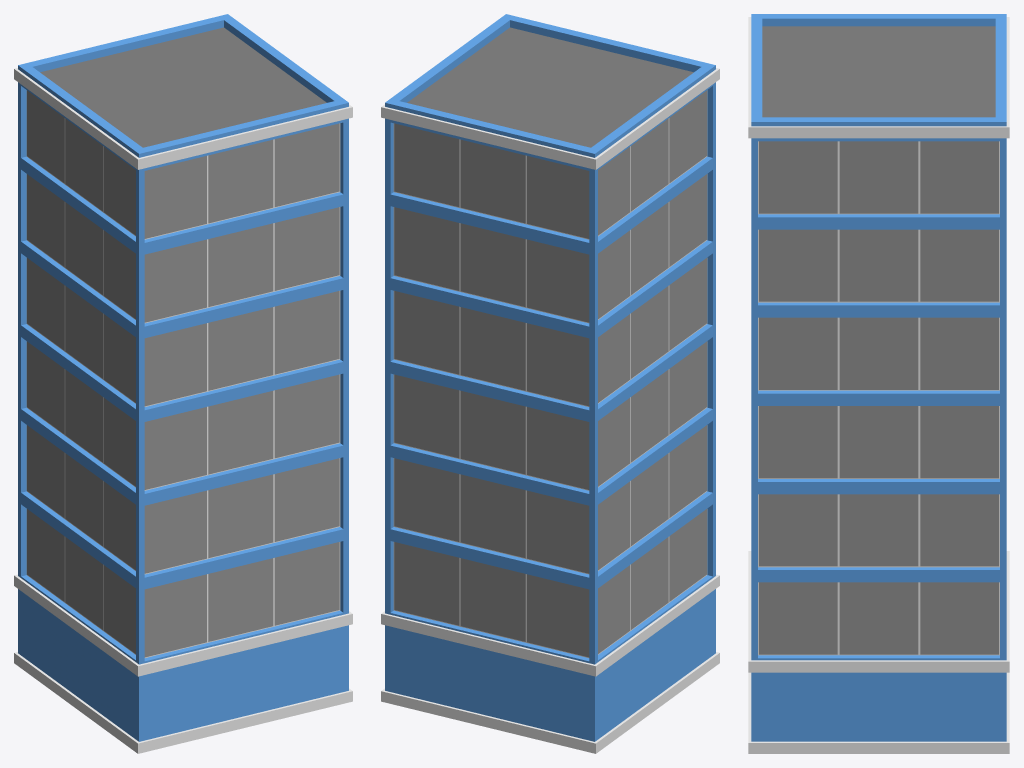
The model's file is SM_House_16_03.FBX.
The picture shows the model from 3 angles, left to right: view 1: azimuth 30°, elevation 25°; view 2: azimuth 150°, elevation 25°; view 3: azimuth 270°, elevation 25°; orthographic projection. The views are drawn at different scales.
Visible parts, largest first — view 1: SM_House_16_03; view 2: SM_House_16_03; view 3: SM_House_16_03.
Part boxes in pixels (<box>): SM_House_16_03: <box>14,14,352,753</box>; SM_House_16_03: <box>381,14,719,753</box>; SM_House_16_03: <box>748,14,1009,753</box>.
Bounding box in the file's own units: 3.07 × 8.17 × 3.07.
1 material, 1 textured.
